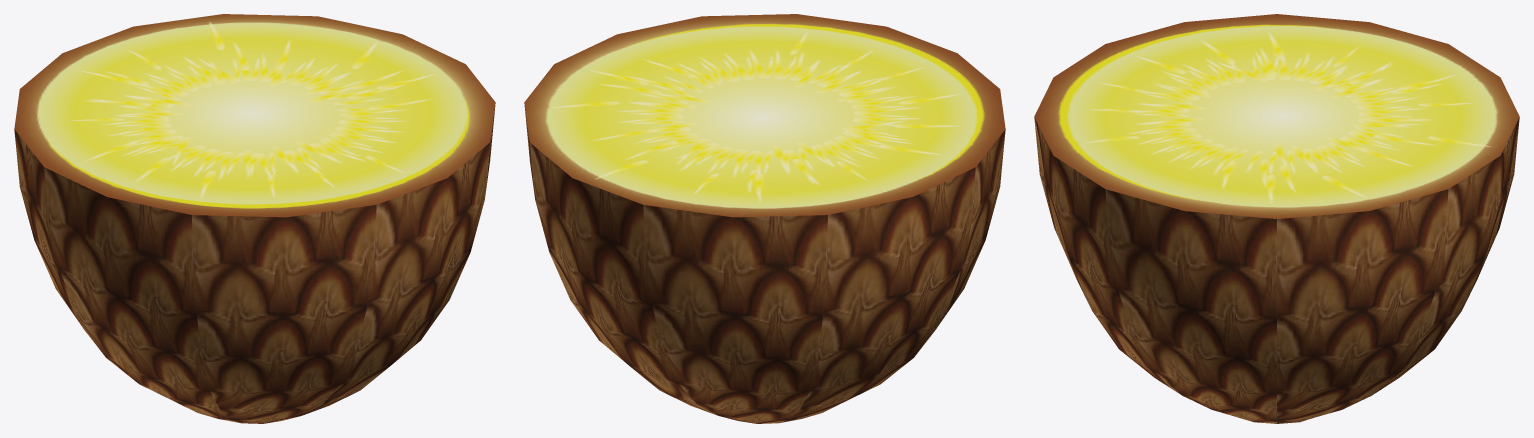
Rendered from pineappleS2.FBX.
3 renders of one model, left to right at view 1: azimuth 30°, elevation 25°; view 2: azimuth 150°, elevation 25°; view 3: azimuth 270°, elevation 25°, orthographic.
Parts seen in each view (by area): view 1: PineappleB; view 2: PineappleB; view 3: PineappleB.
Part boxes in pixels (x1,y1,x2,y2): PineappleB: (14, 14, 495, 423); PineappleB: (524, 14, 1005, 423); PineappleB: (1034, 14, 1519, 423).
Size of the model in its own units: 12.15 by 8.27 by 12.15.
